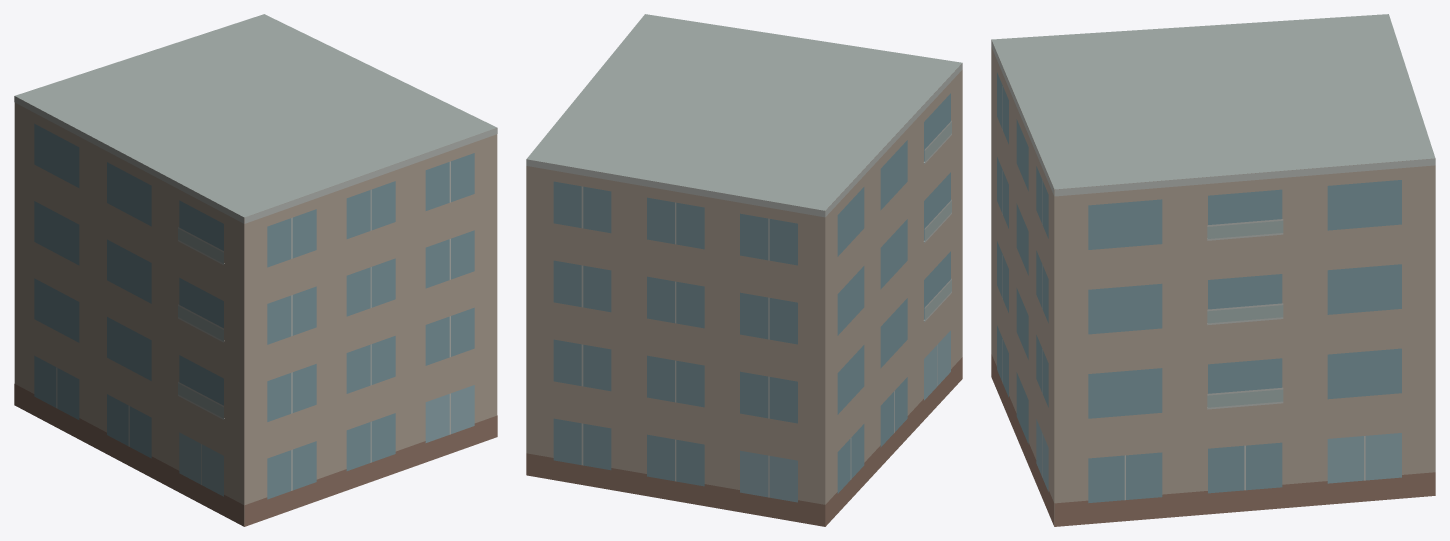
The model's file is survey-upis-32724626.glb.
The picture shows the model from 3 angles, left to right: view 1: azimuth 30°, elevation 25°; view 2: azimuth 150°, elevation 25°; view 3: azimuth 270°, elevation 25°; orthographic projection. The views are drawn at different scales.
Visible parts, largest first — view 1: survey-upis-32724626.tmp; view 2: survey-upis-32724626.tmp; view 3: survey-upis-32724626.tmp.
Part boxes in pixels (bbox=[...]): survey-upis-32724626.tmp: bbox=[14, 14, 497, 526]; survey-upis-32724626.tmp: bbox=[526, 14, 962, 526]; survey-upis-32724626.tmp: bbox=[991, 14, 1435, 526].
Size of the model in its own units: 13.06 by 11.7 by 13.97.
